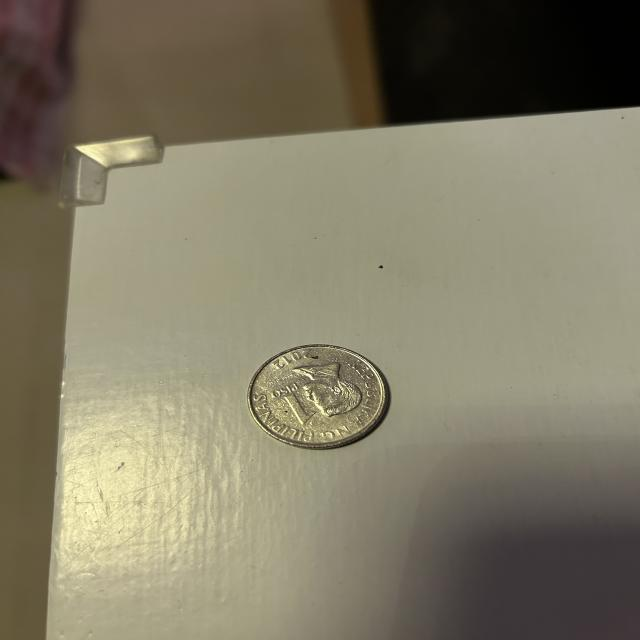1_Old_Front: (268, 384, 320, 428)
